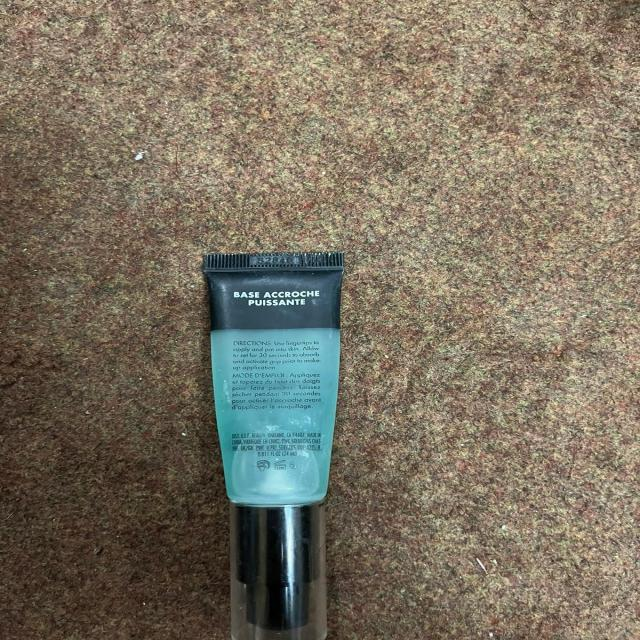primer: (208, 221, 379, 635)
